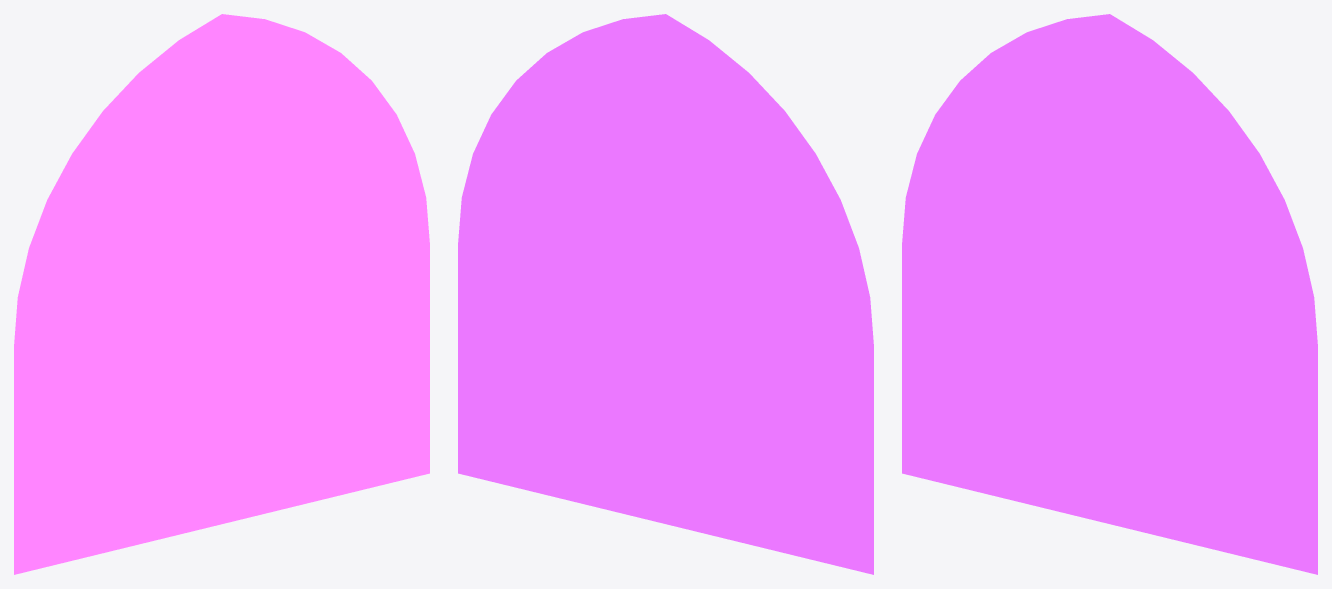
Rendered from SpawnPortal_Surface.fbx.
The picture shows the model from 3 angles, left to right: view 1: azimuth 30°, elevation 25°; view 2: azimuth 150°, elevation 25°; view 3: azimuth 330°, elevation 25°; orthographic projection.
Visible parts, largest first — view 1: SpawnPortal_Surface; view 2: SpawnPortal_Surface; view 3: SpawnPortal_Surface.
Boxes of the visible parts, box(x1,y1,x2,y2) form: SpawnPortal_Surface: box(14, 14, 429, 574); SpawnPortal_Surface: box(458, 14, 873, 574); SpawnPortal_Surface: box(902, 14, 1317, 574).
Size of the model in its own units: 3 by 3.52 by 0.
